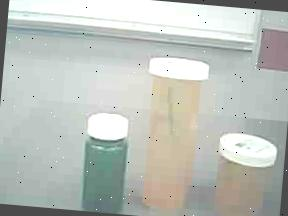Bottle A: (136, 50, 213, 216)
Bottle B: (209, 129, 280, 216)
Bottle C: (74, 110, 138, 215)
